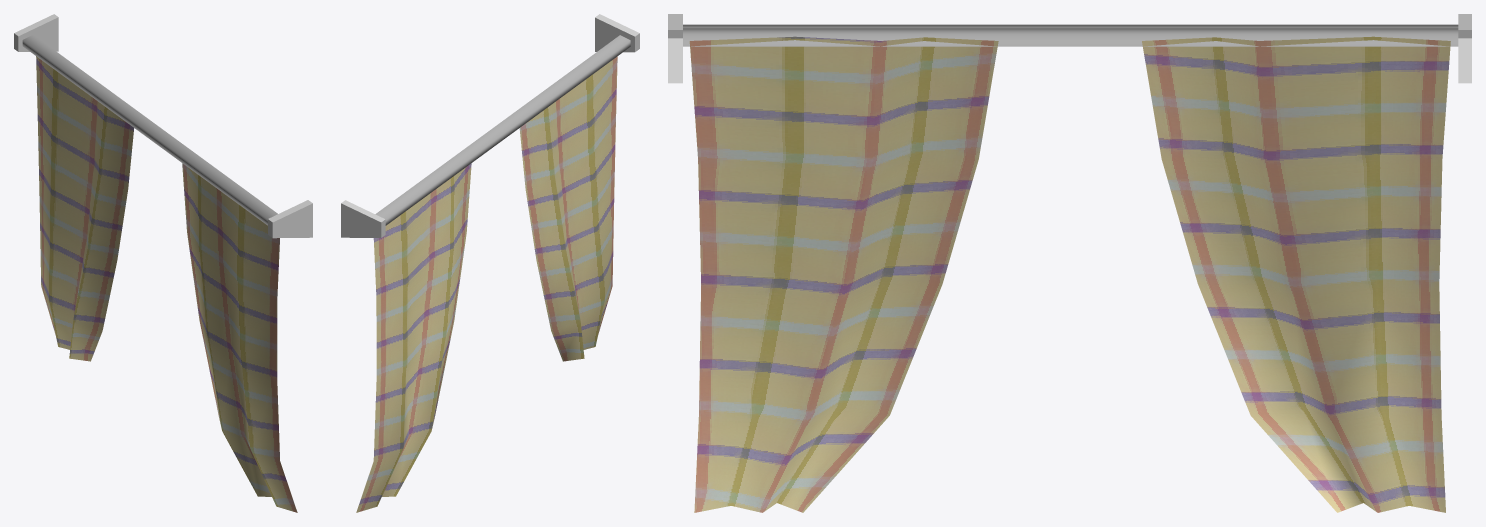
The model's file is interior_A_012.fbx.
The picture shows the model from 3 angles, left to right: view 1: azimuth 30°, elevation 25°; view 2: azimuth 150°, elevation 25°; view 3: azimuth 270°, elevation 25°; orthographic projection. The views are drawn at different scales.
Parts seen in each view (by area): view 1: interior_A_012; view 2: interior_A_012; view 3: interior_A_012.
Part boxes in pixels (x1,y1,x2,y2): interior_A_012: [14, 14, 312, 512]; interior_A_012: [341, 14, 639, 512]; interior_A_012: [668, 14, 1471, 512].
Size of the model in its own units: 17.48 by 131 by 195.
3 materials, 1 textured.
